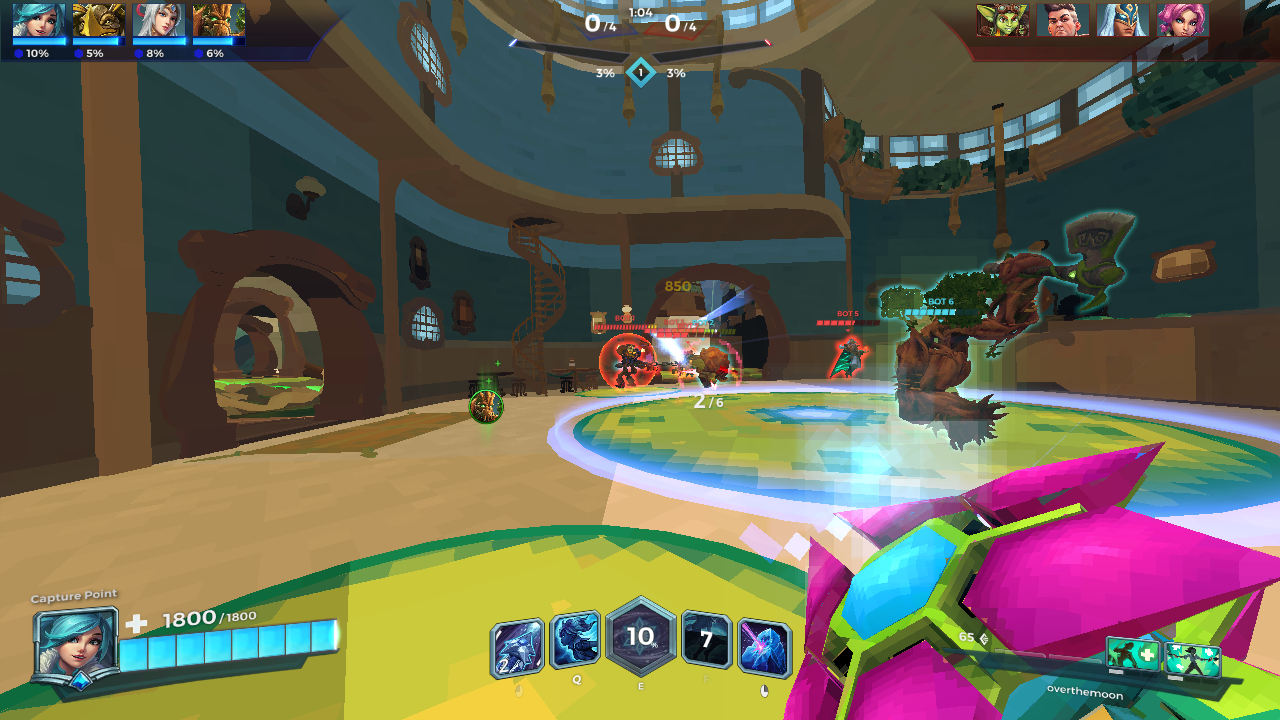model: (611, 337, 645, 389), (831, 334, 860, 384), (673, 347, 702, 387)
